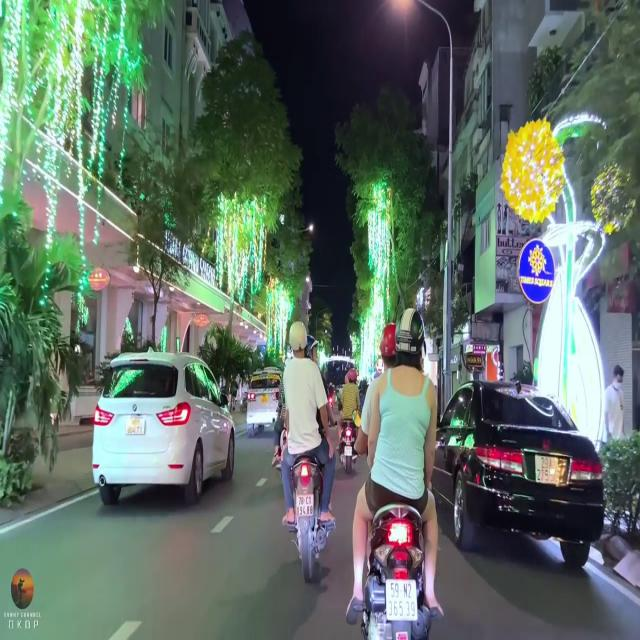bien_trang: (384, 577, 417, 621), (535, 449, 562, 489), (295, 491, 315, 519)
